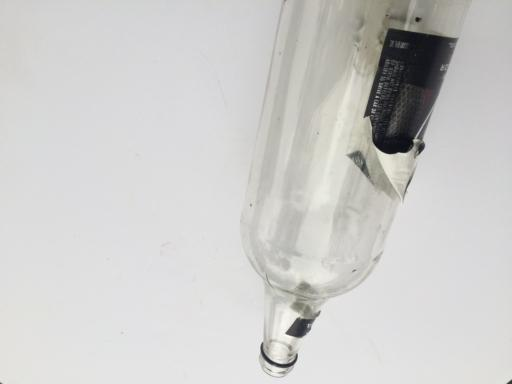botolkaca: (241, 1, 472, 378)
